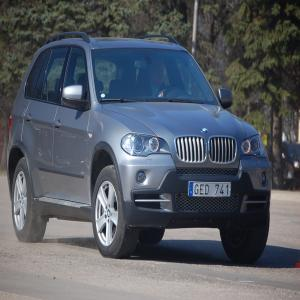Vehicle-registration-plate: (190, 182, 232, 197)
